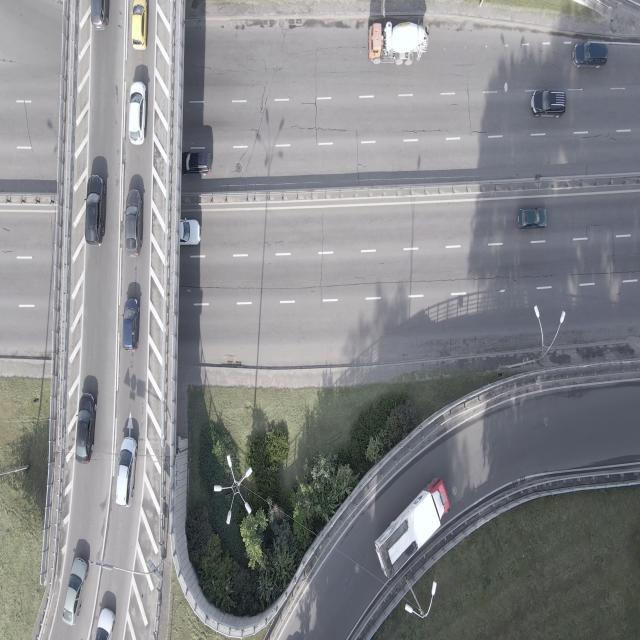vehicle: (372, 476, 452, 576), (368, 19, 430, 64), (62, 556, 88, 625), (115, 434, 137, 508), (84, 173, 106, 244), (76, 391, 96, 464), (125, 185, 144, 258), (128, 80, 147, 146), (573, 41, 608, 68), (531, 89, 566, 116), (122, 296, 138, 352), (132, 0, 148, 50), (182, 150, 212, 174), (94, 606, 115, 640), (517, 207, 547, 230), (179, 218, 201, 245), (90, 1, 110, 30)
